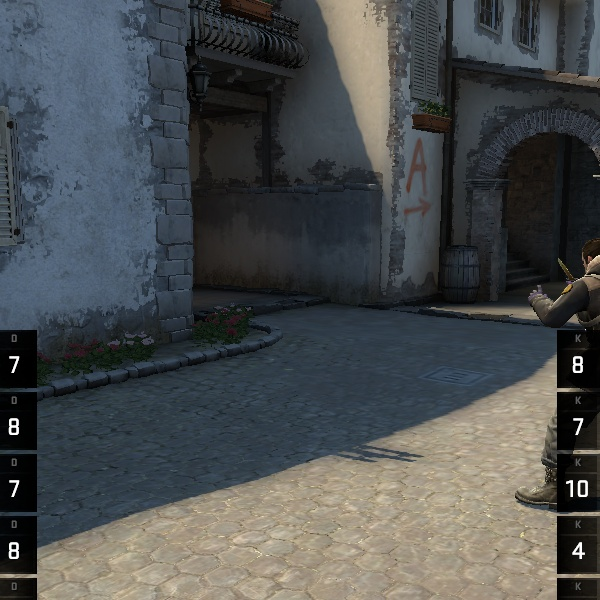t_head: (571, 223, 598, 285)
